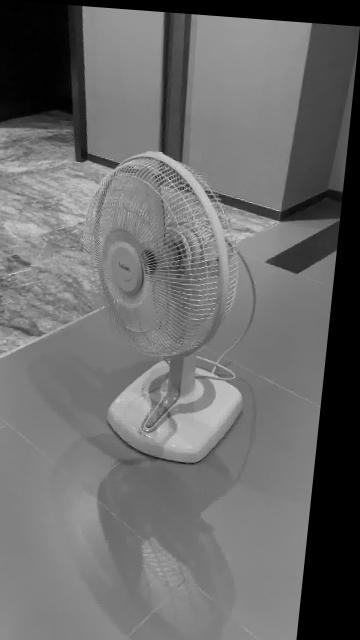Fan: (93, 149, 251, 461)
